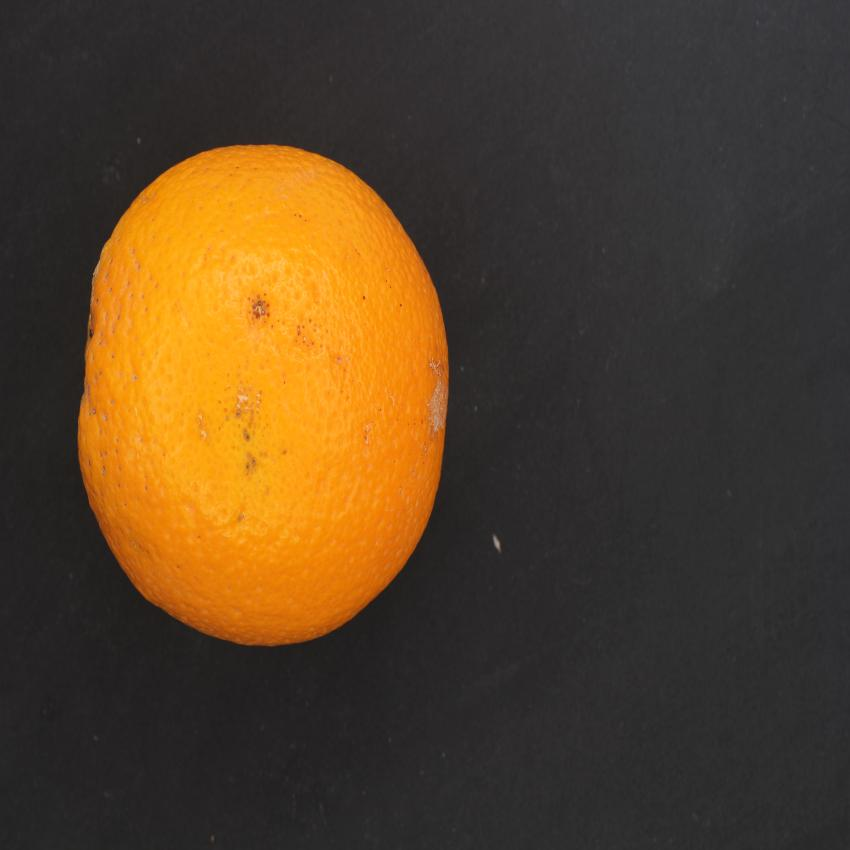Mal estado: (73, 114, 490, 669)
